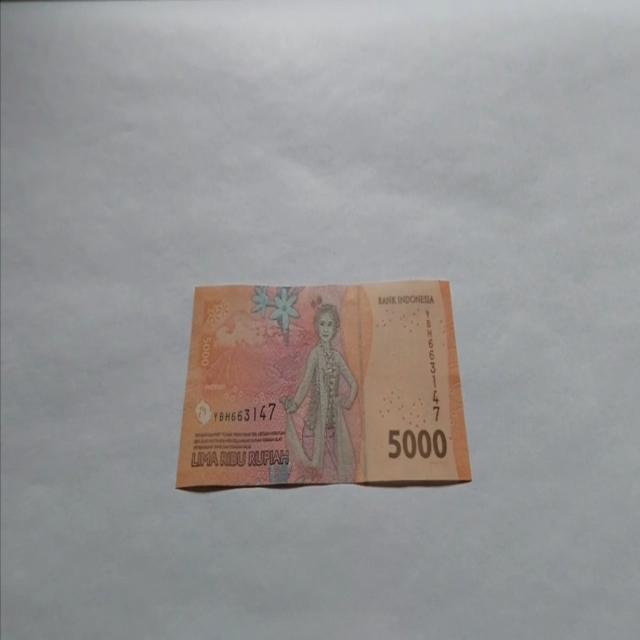lima ribu rupiah: (175, 277, 472, 491), (278, 302, 359, 484)
